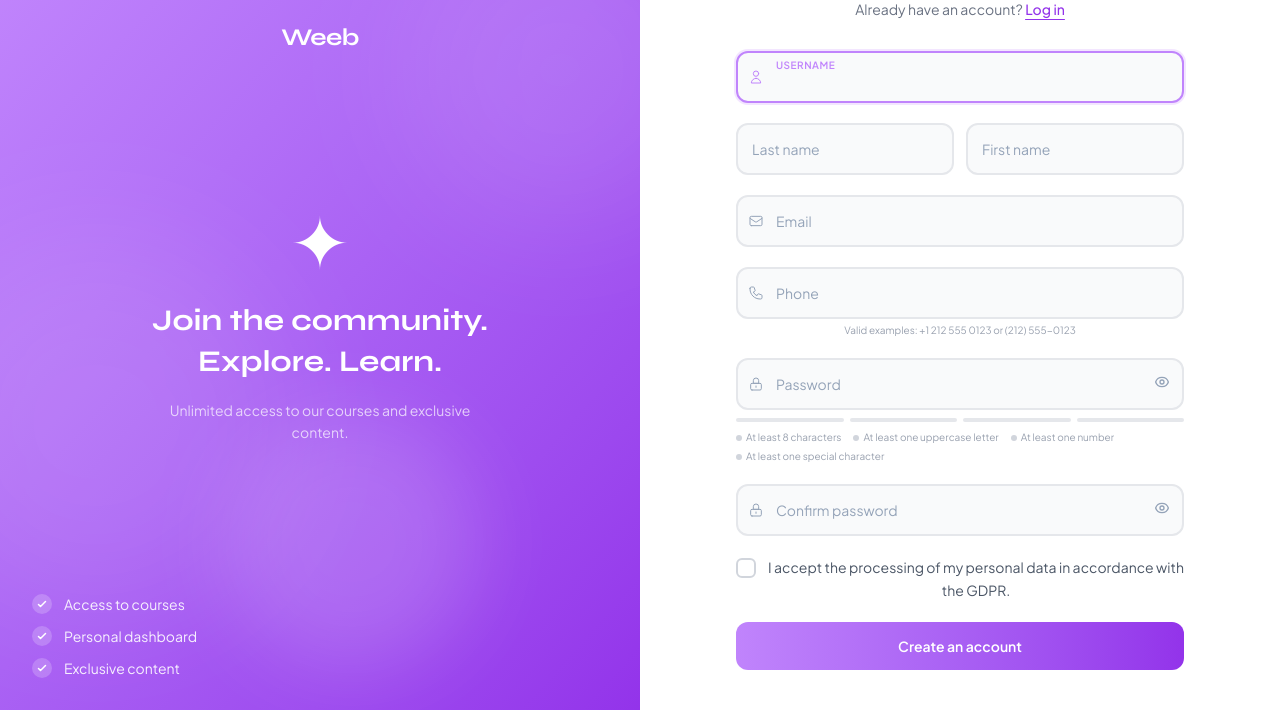
Scenario: Register › shows validation errors for empty submit
(page scrolled)
Click the button "Create an account": (960, 646) [736, 622, 1184, 670]
(page scrolled)
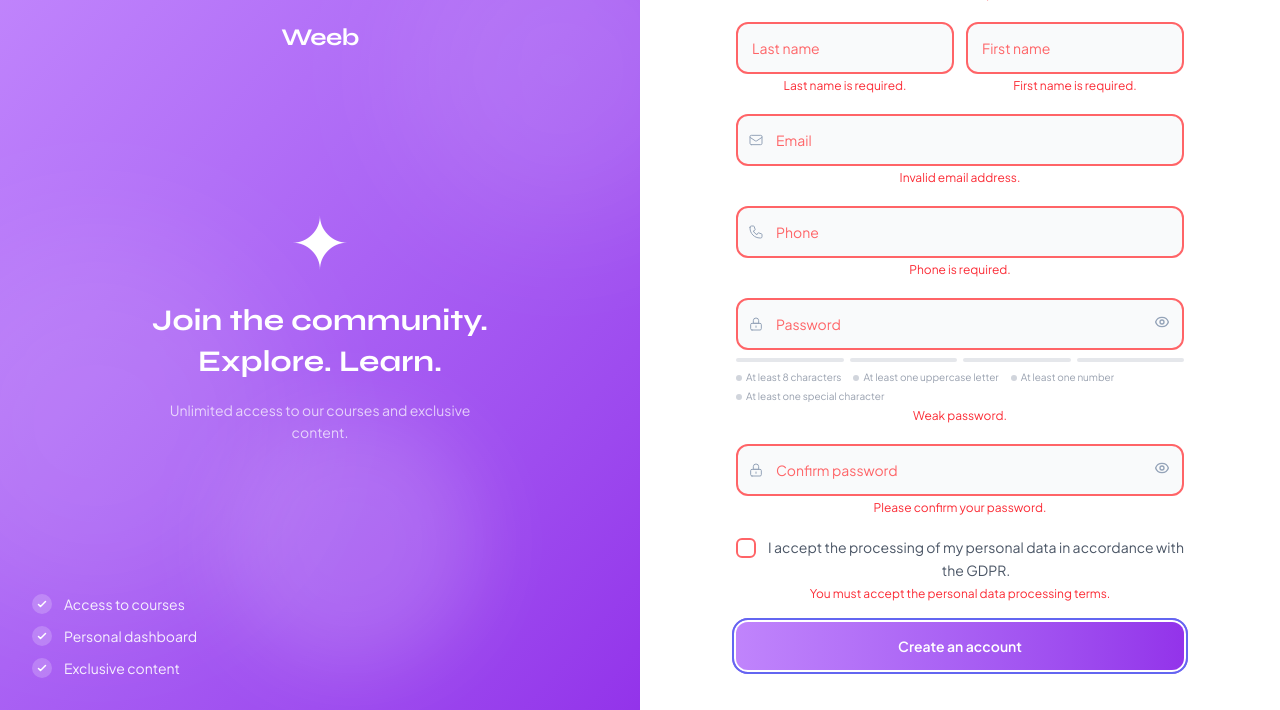
Check: the text "Last name is required." is shown, box [784, 78, 906, 93]
Check: the text "First name is required." is shown, box [1013, 78, 1137, 93]
Check: the text "Invalid email address." is shown, box [900, 170, 1020, 185]
